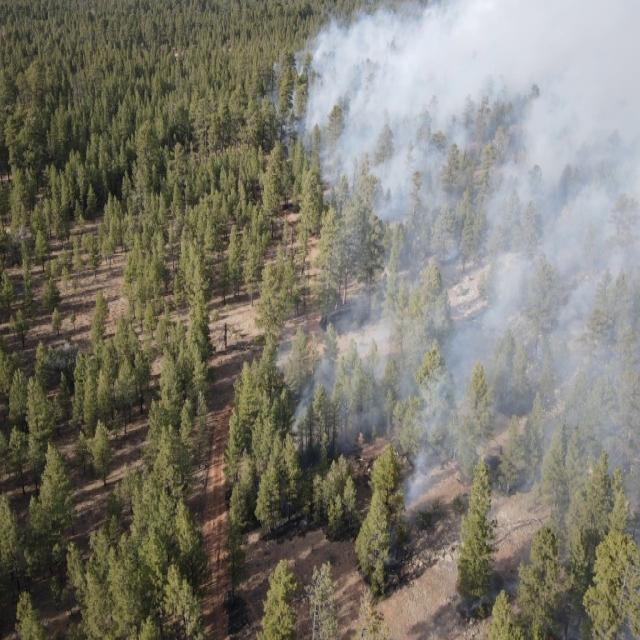smoke: (259, 0, 640, 542)
